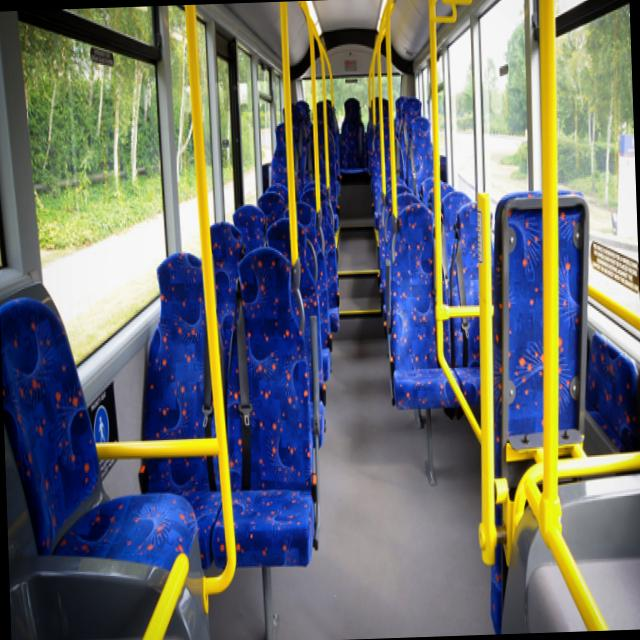empty-seat-frontal: (195, 243, 320, 562), (382, 202, 464, 416)
